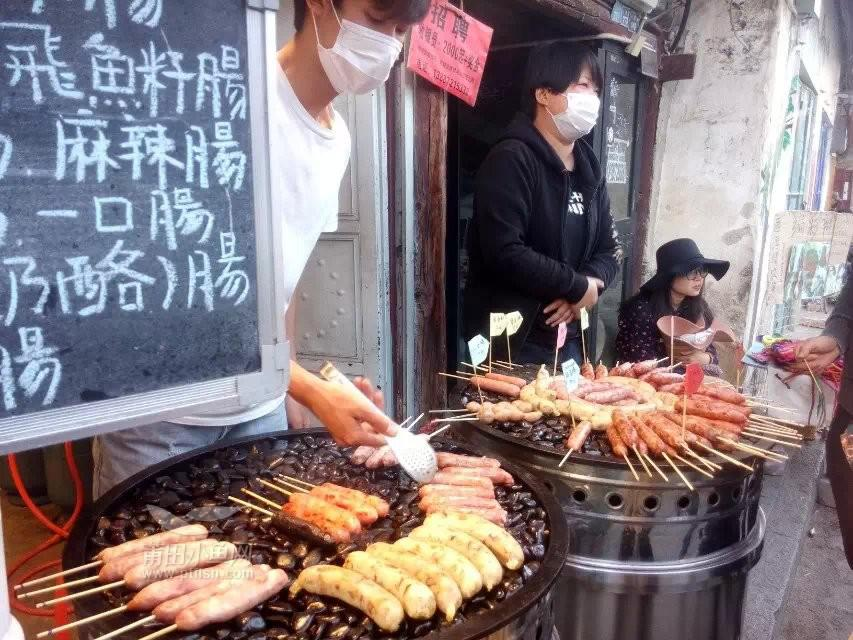NONE: (677, 265, 708, 301)
OK: (323, 7, 412, 96), (545, 74, 605, 134)
